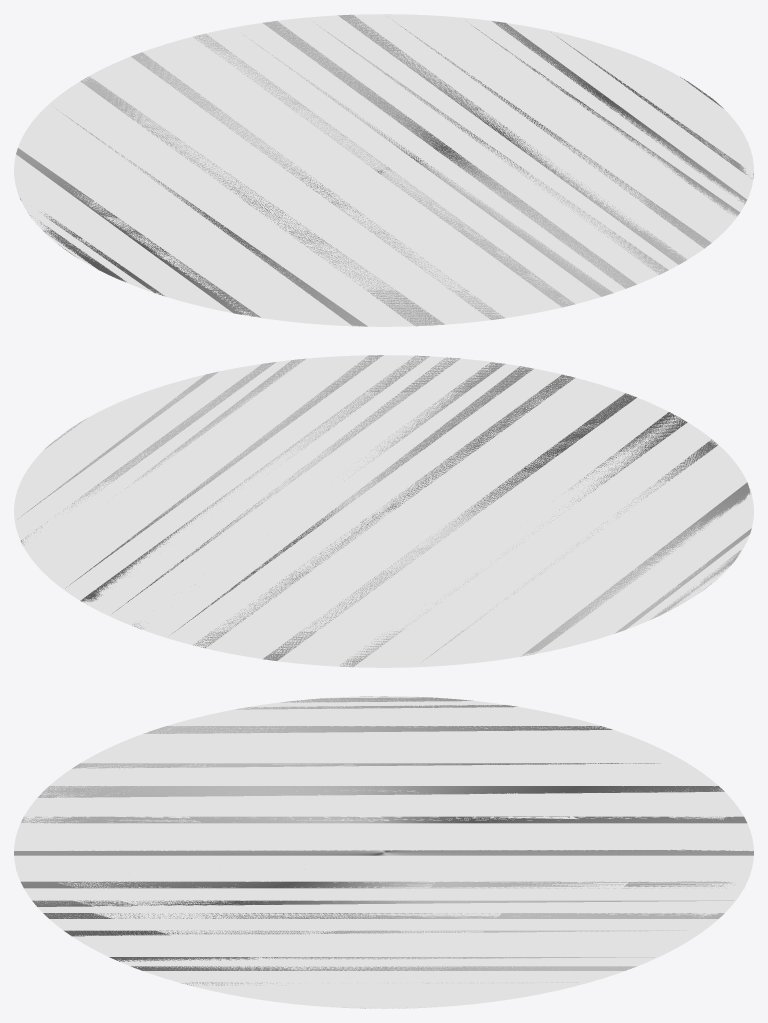
Rendered from hgd_cf_homi_01.glb.
3 renders of one model, top to bottom at view 1: azimuth 30°, elevation 25°; view 2: azimuth 150°, elevation 25°; view 3: azimuth 270°, elevation 25°, orthographic.
Parts seen in each view (by area): view 1: torpedoDangerZone, AggroIndicatorEnemy; view 2: torpedoDangerZone, AggroIndicatorEnemy; view 3: torpedoDangerZone, AggroIndicatorEnemy.
Boxes of the visible parts, x1=… form: torpedoDangerZone: x1=14, y1=14, x2=753, y2=326; AggroIndicatorEnemy: x1=16, y1=14, x2=753, y2=326; torpedoDangerZone: x1=14, y1=355, x2=753, y2=667; AggroIndicatorEnemy: x1=17, y1=355, x2=751, y2=667; torpedoDangerZone: x1=14, y1=696, x2=753, y2=1008; AggroIndicatorEnemy: x1=14, y1=696, x2=753, y2=1008.
Size of what is drawn, in the model's own units: 40 by 8.88e-15 by 40.
Materials: 2 (1 with a texture image).
